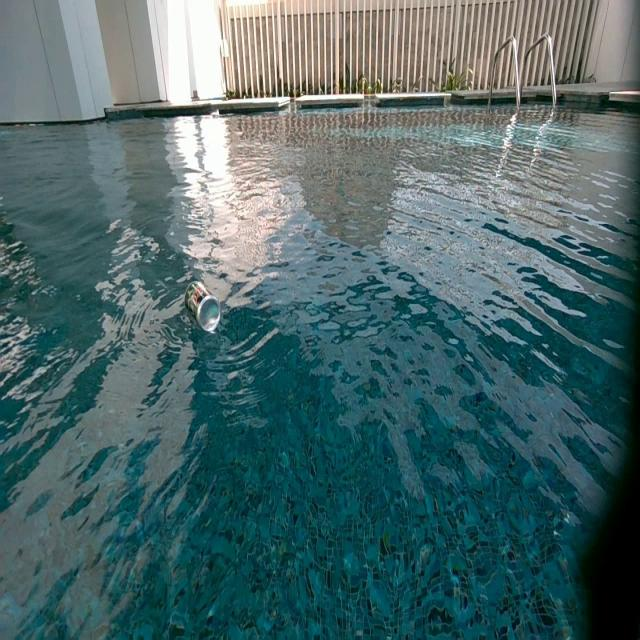Cans: (184, 284, 222, 333)
